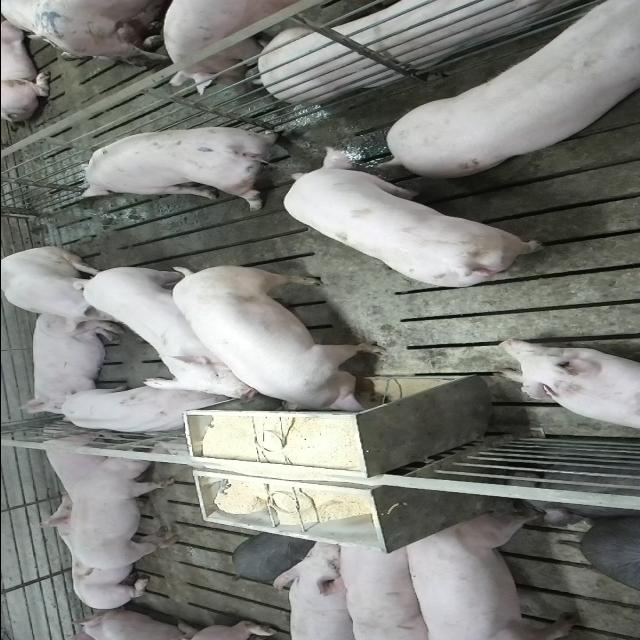Feeding: (168, 268, 396, 421)
Lateral_lying: (179, 0, 591, 102), (16, 310, 126, 415)
Sitting: (1, 246, 133, 334)
Standing: (382, 0, 640, 174), (285, 150, 553, 292), (76, 260, 262, 399), (398, 509, 580, 639), (73, 124, 295, 208), (164, 0, 330, 94), (66, 447, 178, 573), (332, 531, 436, 637), (273, 538, 364, 640)
Sternal_lying: (30, 493, 156, 609), (492, 338, 640, 434), (36, 426, 118, 498)
